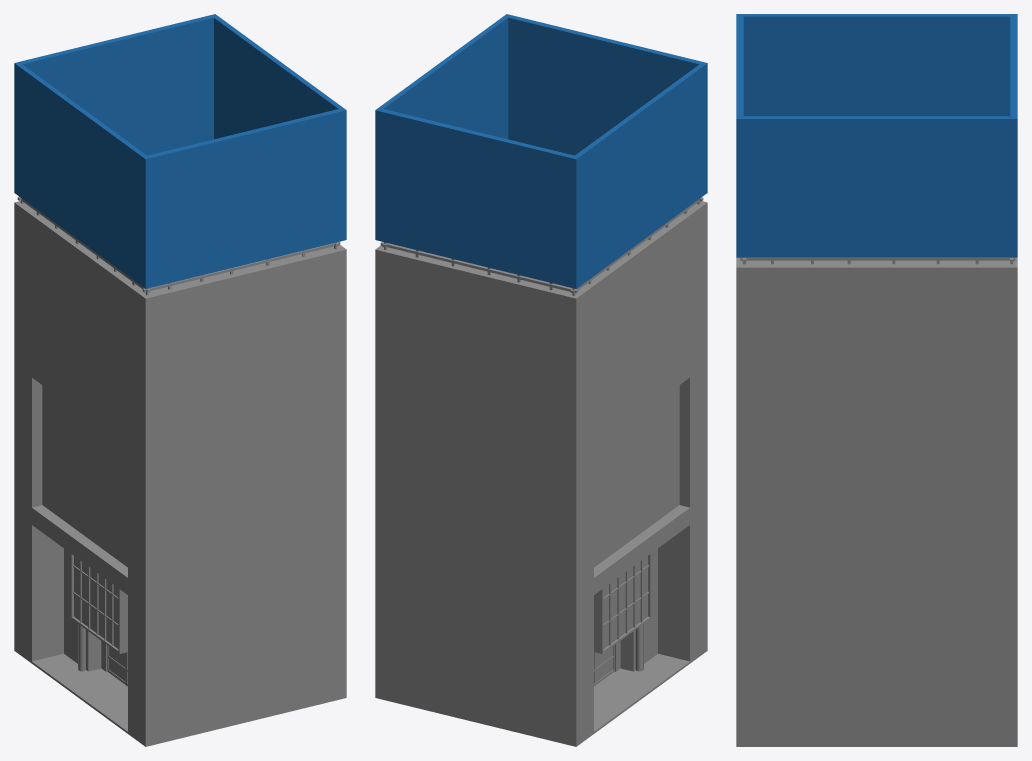
File: buildings_M_01 2.fbx
3 renders of one model, left to right at view 1: azimuth 30°, elevation 25°; view 2: azimuth 150°, elevation 25°; view 3: azimuth 270°, elevation 25°, orthographic. The views are drawn at different scales.
Parts seen in each view (by area): view 1: buildings_M_01; view 2: buildings_M_01; view 3: buildings_M_01.
Boxes of the visible parts, left/top/right/bottom form: buildings_M_01: left=14, top=14, right=346, bottom=746; buildings_M_01: left=375, top=14, right=707, bottom=746; buildings_M_01: left=736, top=14, right=1017, bottom=746.
Bounding box in the file's own units: 12.5 × 34.91 × 14.16.
